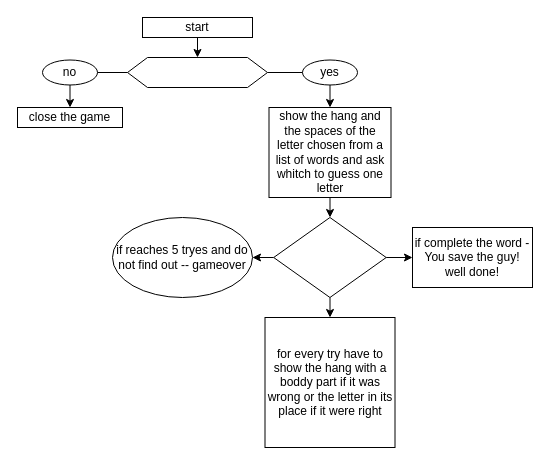
Image size: 550x465. Some labels were removed from this diagram. Here are the shapes that lost their labels. From the top down, the centre of each, then its label:
pixel 197 72: Do you wanna play Hangman?
pixel 329 257: player have 5 chances
